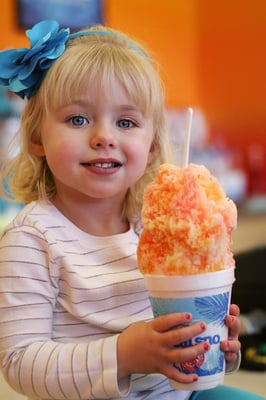pizza: (137, 165, 238, 393)
